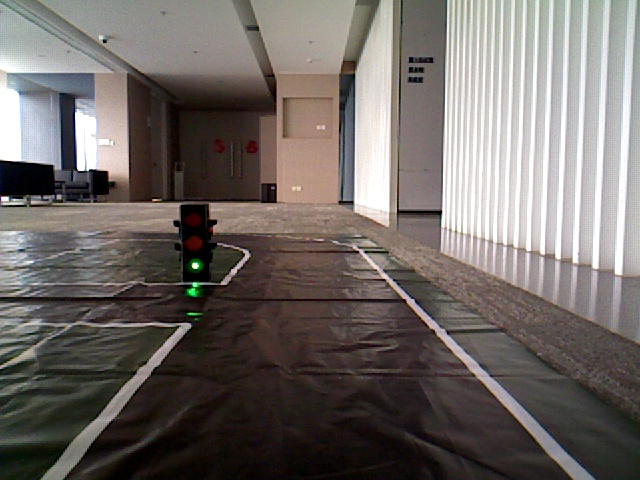green: (177, 201, 213, 270)
